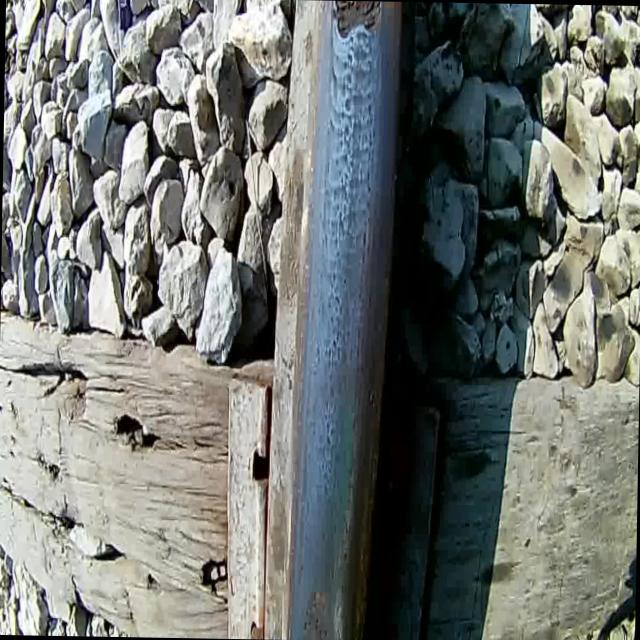Spallings: (326, 0, 386, 44)
Squats: (295, 574, 348, 640)
